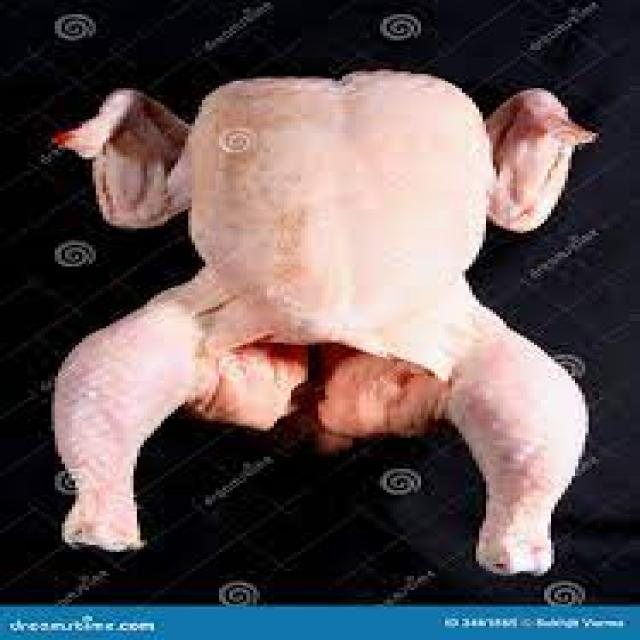Chicken: (44, 60, 587, 584)
